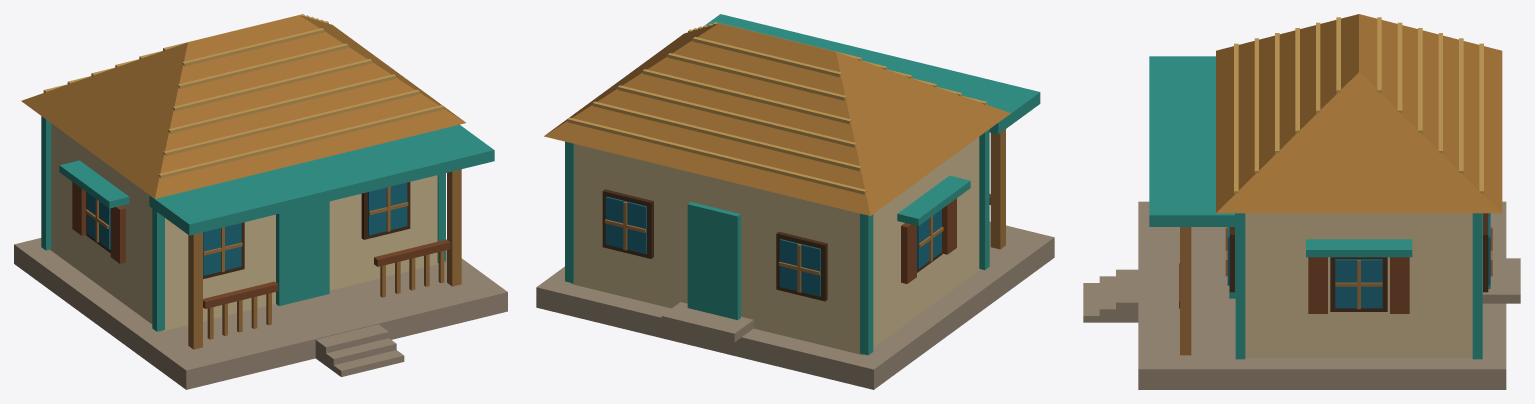
Rendered from Tropical_BeachBungalow_Standard.glb.
3 views of the same model, side by side, from view 1: azimuth 30°, elevation 25°; view 2: azimuth 150°, elevation 25°; view 3: azimuth 270°, elevation 25° (orthographic). The views are drawn at different scales.
Visible parts, largest first — view 1: Tropical_BeachBungalow_Standard; view 2: Tropical_BeachBungalow_Standard; view 3: Tropical_BeachBungalow_Standard.
Boxes of the visible parts, x1,y1,x2,y2 form: Tropical_BeachBungalow_Standard: (14,14,507,389); Tropical_BeachBungalow_Standard: (536,14,1054,389); Tropical_BeachBungalow_Standard: (1083,14,1520,389).
Bounding box in the file's own units: 4.85 × 3.55 × 5.35.
